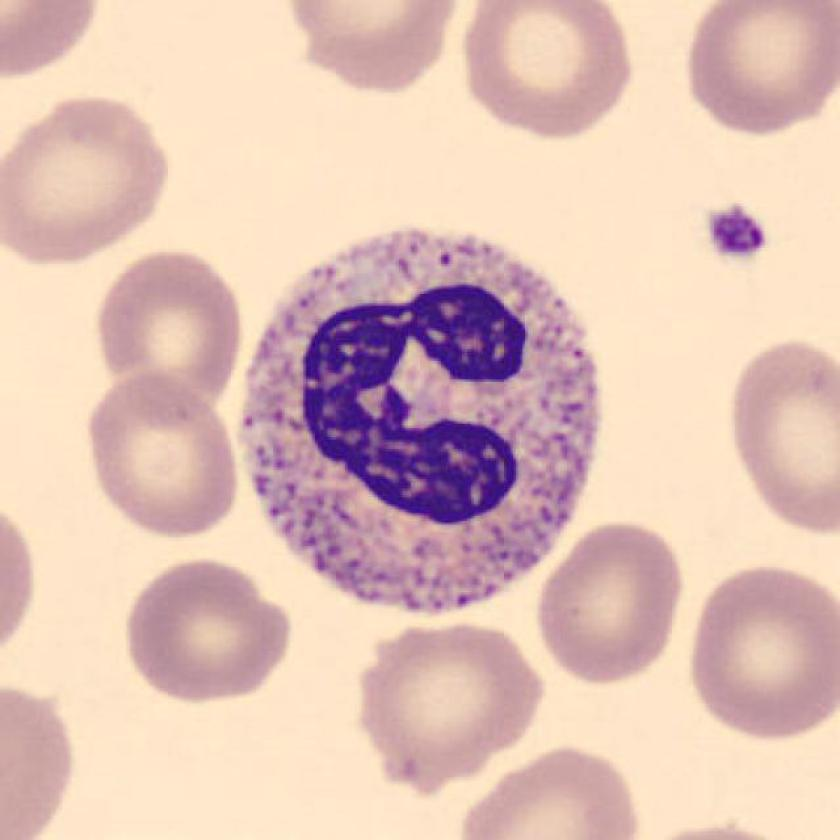neutrophil: (241, 231, 598, 609)
